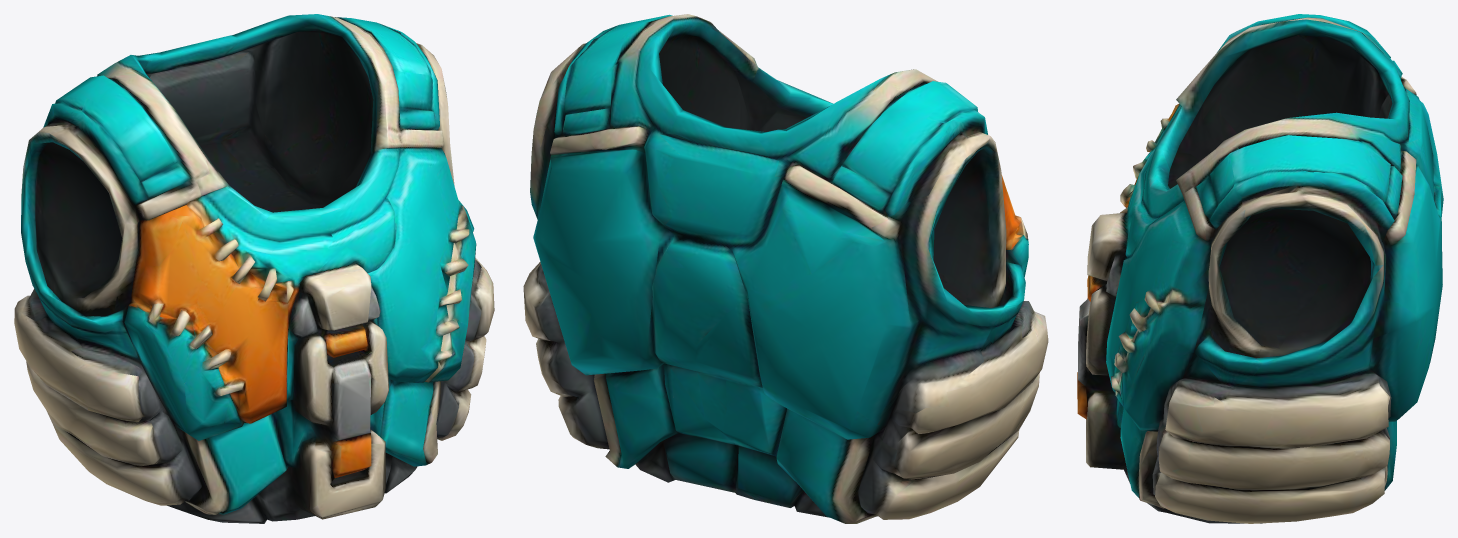
The model's file is GE01_patch_suit.glb.
3 renders of one model, left to right at view 1: azimuth 30°, elevation 25°; view 2: azimuth 150°, elevation 25°; view 3: azimuth 270°, elevation 25°, orthographic. The views are drawn at different scales.
Visible parts, largest first — view 1: tripo_node_30952a0d-b7b3-4f62-b3ea-57d8d8759ac1; view 2: tripo_node_30952a0d-b7b3-4f62-b3ea-57d8d8759ac1; view 3: tripo_node_30952a0d-b7b3-4f62-b3ea-57d8d8759ac1.
Part boxes in pixels (<box>): tripo_node_30952a0d-b7b3-4f62-b3ea-57d8d8759ac1: <box>14,14,494,523</box>; tripo_node_30952a0d-b7b3-4f62-b3ea-57d8d8759ac1: <box>523,14,1048,523</box>; tripo_node_30952a0d-b7b3-4f62-b3ea-57d8d8759ac1: <box>1077,14,1443,523</box>.
Size of the model in its own units: 0.9982 by 0.9108 by 0.7533.
Materials: 1 (1 with a texture image).
